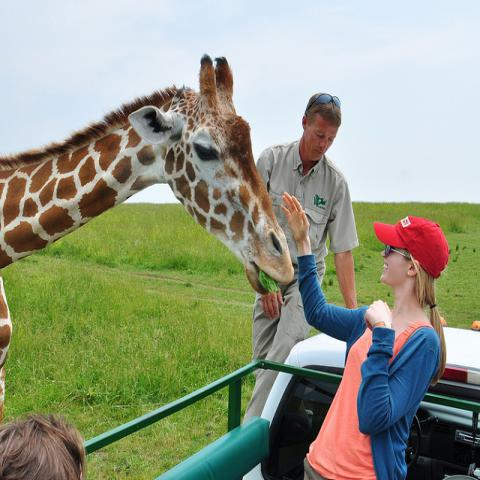truck: (79, 325, 480, 474)
